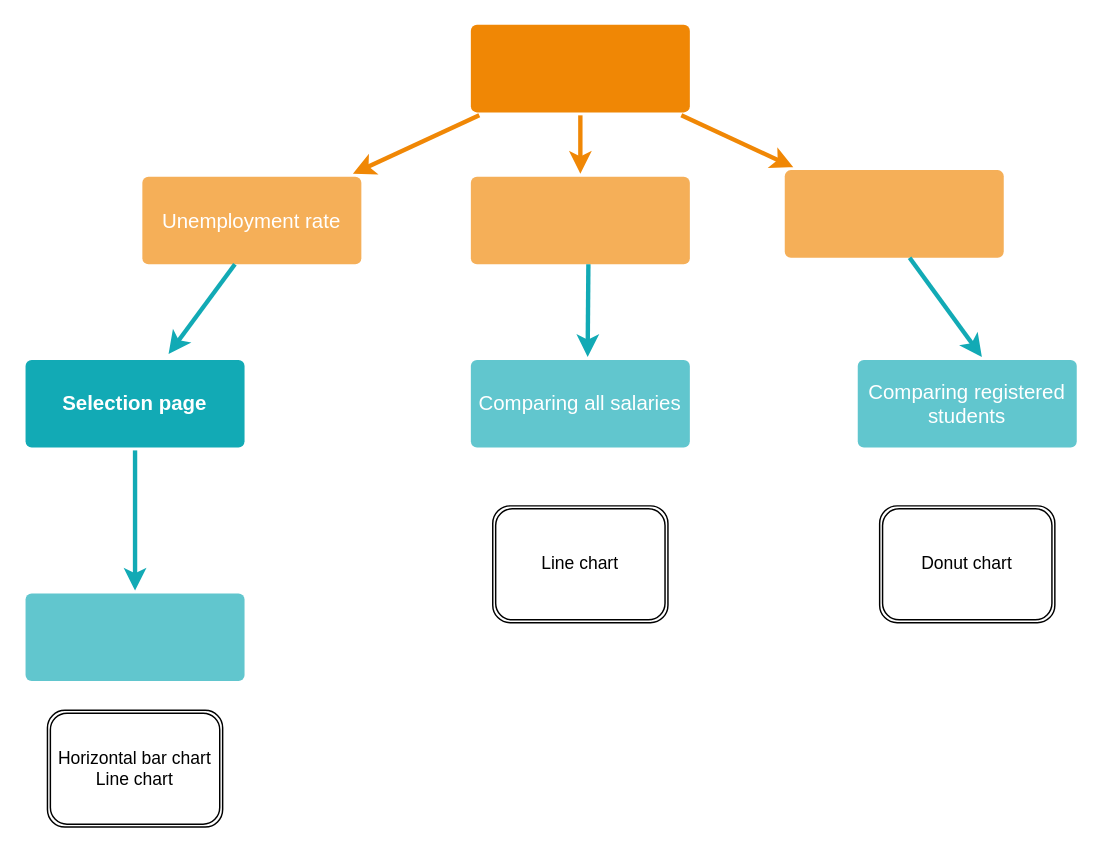
The diagram is 1101 pixels wide and 853 high, and some of its shapes have lost their labels. The shapes that lost their labels are listed below. From the top down, each one's centre as x and y in pixels, then its label:
the point at 579,68: Landing Page
the point at 579,220: Income
the point at 893,213: Registered students
the point at 134,636: Comparing Unemployment rate and income
